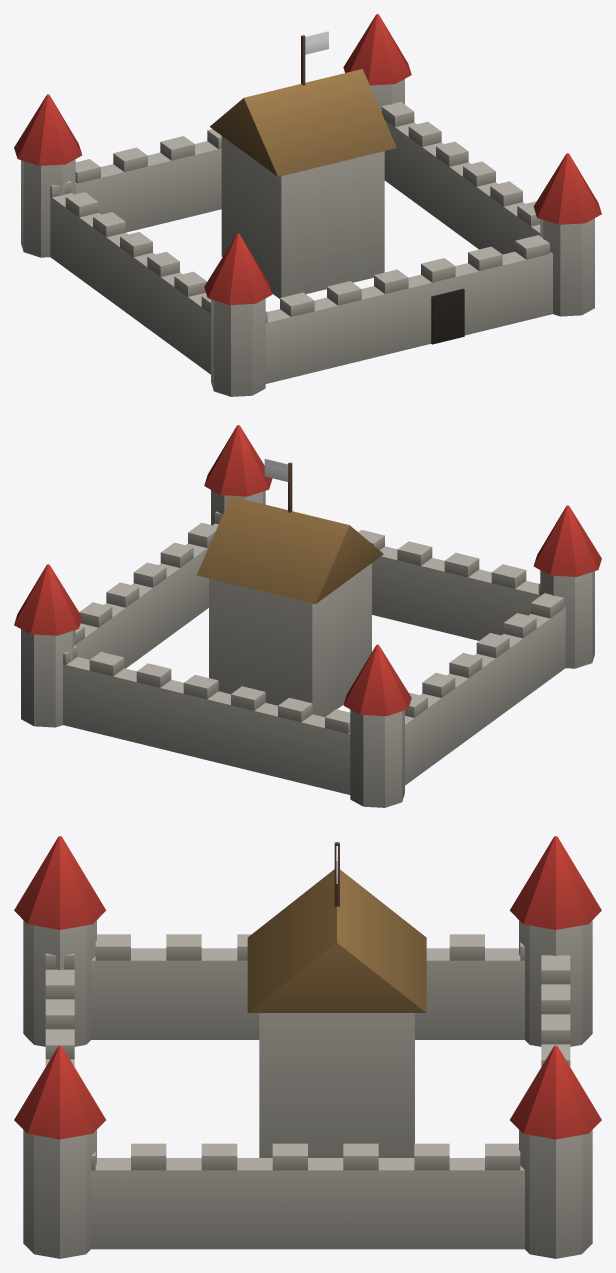
File: FORT_NE.glb
The picture shows the model from 3 angles, top to bottom: view 1: azimuth 30°, elevation 25°; view 2: azimuth 150°, elevation 25°; view 3: azimuth 270°, elevation 25°; orthographic projection. The views are drawn at different scales.
Visible parts, largest first — view 1: Body; view 2: Body; view 3: Body.
Part boxes in pixels (box(x1,y1,x2,y2)): Body: box(14, 14, 601, 396); Body: box(14, 425, 601, 807); Body: box(14, 836, 601, 1258).
Bounding box in the file's own units: 6.05 × 3.4 × 6.05.
Materials: 1 (1 with a texture image).
